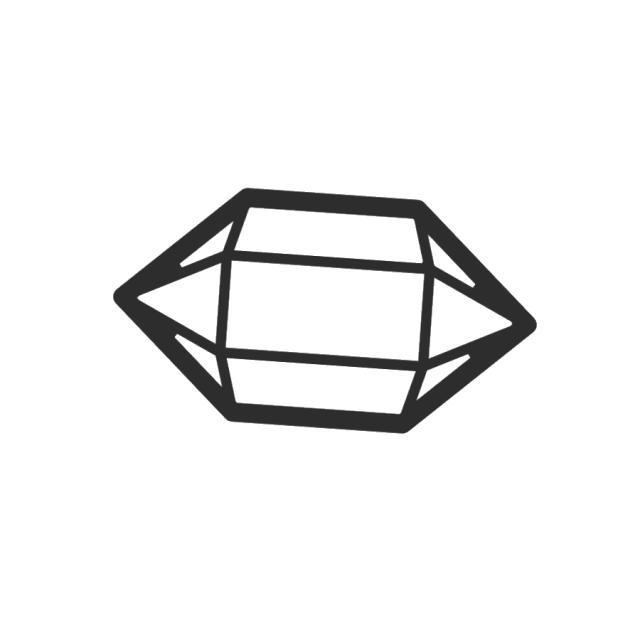crystal: (103, 181, 548, 442)
